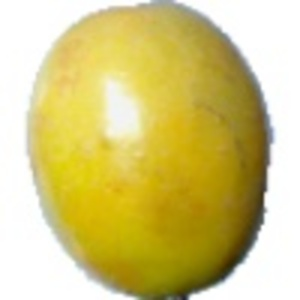maracujá: (24, 1, 278, 300)
